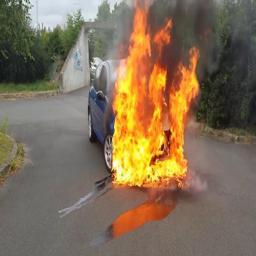fire: (112, 0, 200, 185)
